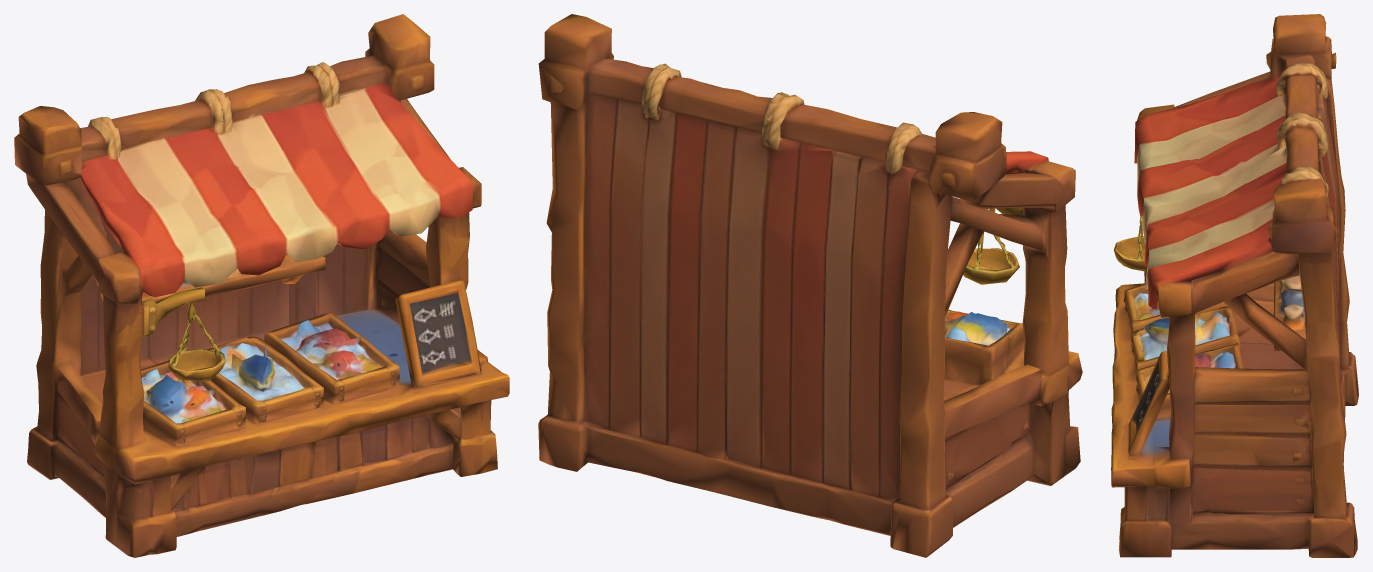
File: fish-stall.glb
The picture shows the model from 3 angles, left to right: view 1: azimuth 30°, elevation 25°; view 2: azimuth 150°, elevation 25°; view 3: azimuth 270°, elevation 25°; orthographic projection. The views are drawn at different scales.
Parts seen in each view (by area): view 1: tripo_node_c8f299a0-11fe-4ec7-9f03-52648b1654a6; view 2: tripo_node_c8f299a0-11fe-4ec7-9f03-52648b1654a6; view 3: tripo_node_c8f299a0-11fe-4ec7-9f03-52648b1654a6.
Boxes of the visible parts, x1,y1,x2,y2 form: tripo_node_c8f299a0-11fe-4ec7-9f03-52648b1654a6: (14,14,509,557); tripo_node_c8f299a0-11fe-4ec7-9f03-52648b1654a6: (538,14,1082,557); tripo_node_c8f299a0-11fe-4ec7-9f03-52648b1654a6: (1111,14,1358,557).
Bounding box in the file's own units: 2.6 × 2.4 × 1.45.
Materials: 1 (1 with a texture image).
